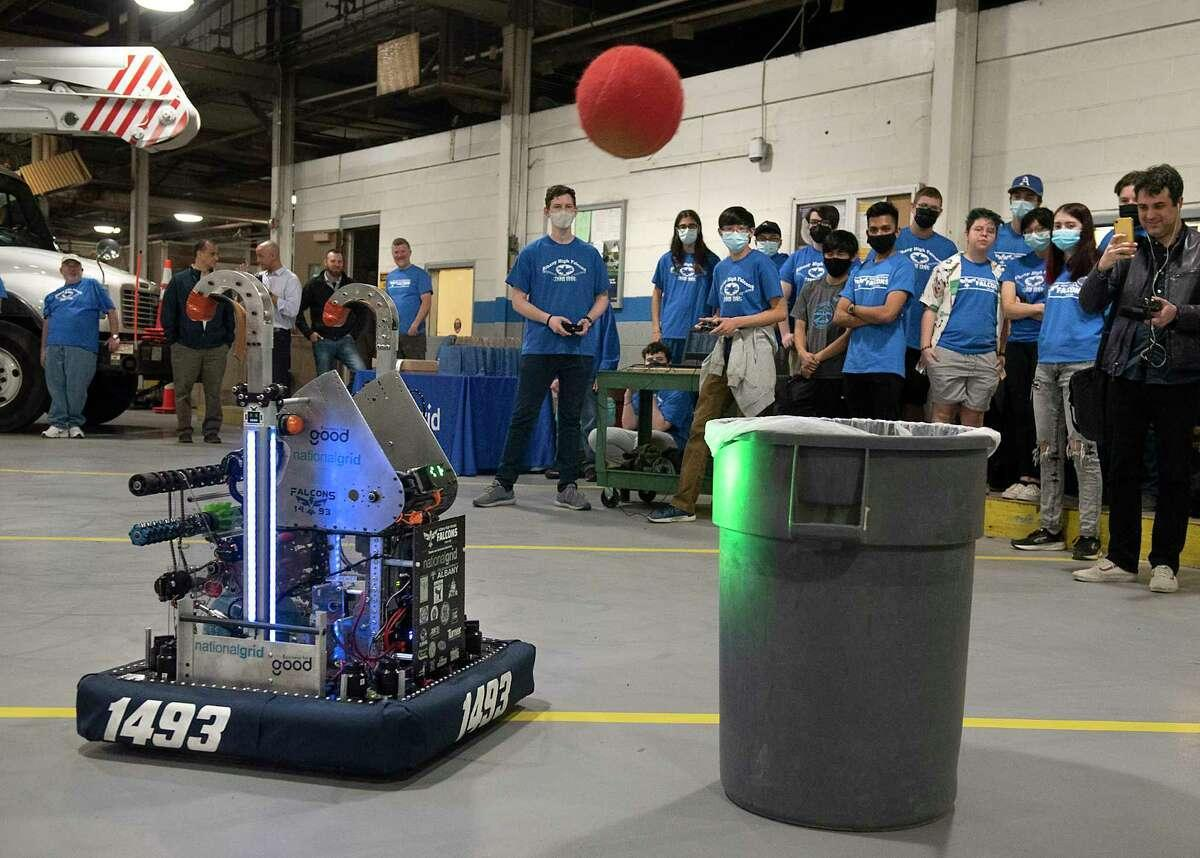robot: (68, 260, 549, 791)
